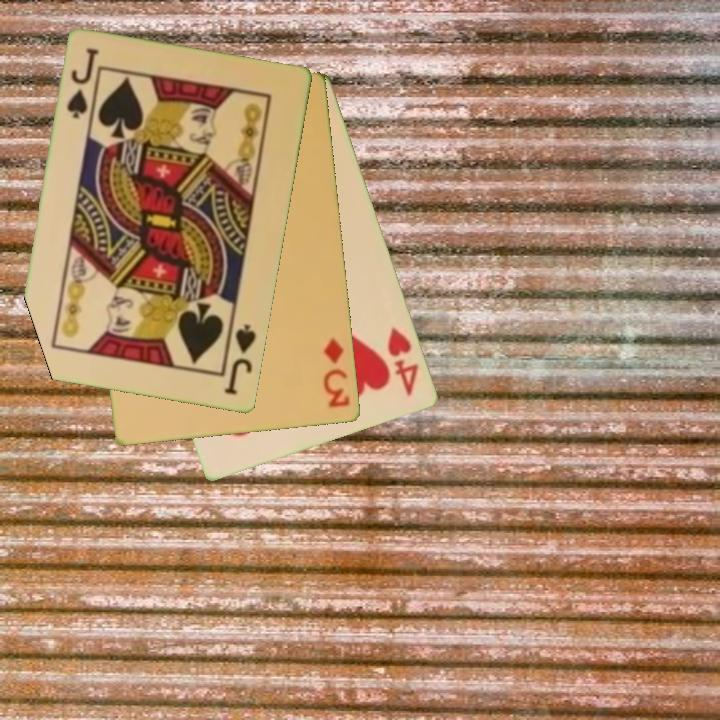3d: (320, 335, 353, 411)
4h: (384, 324, 422, 400)
Js: (63, 45, 102, 125), (221, 321, 260, 398)
